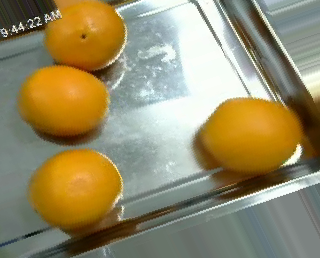Orange: (199, 97, 302, 174), (28, 149, 121, 229), (18, 65, 110, 137), (42, 2, 128, 70)
